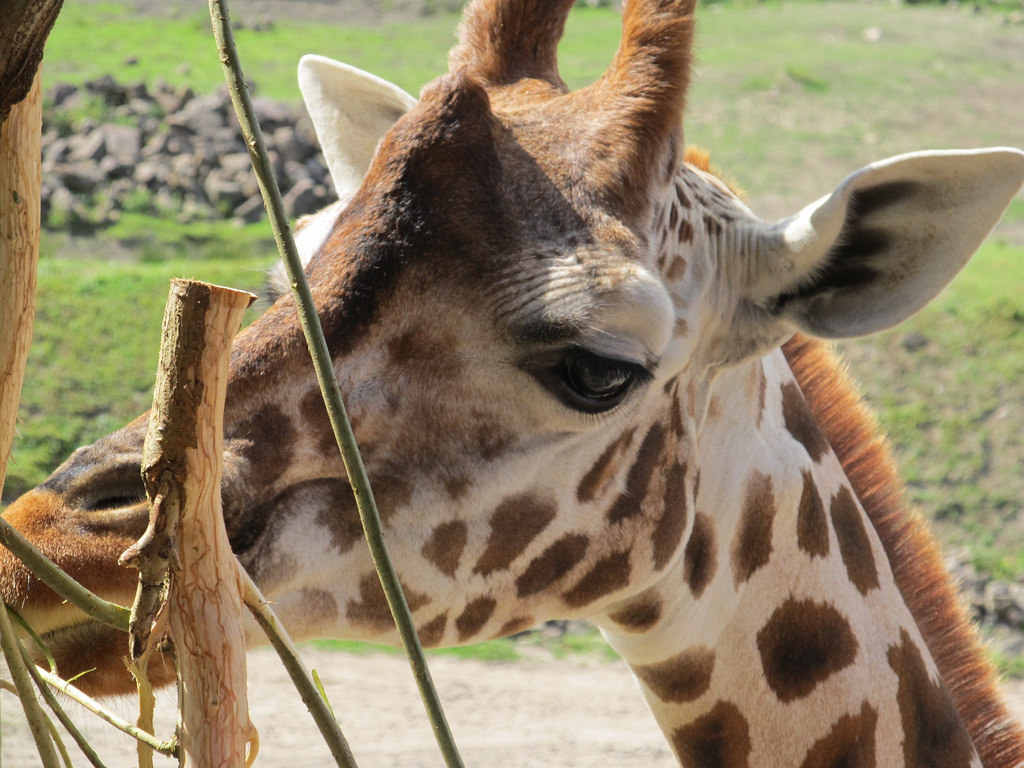giraffe: (55, 6, 967, 718)
